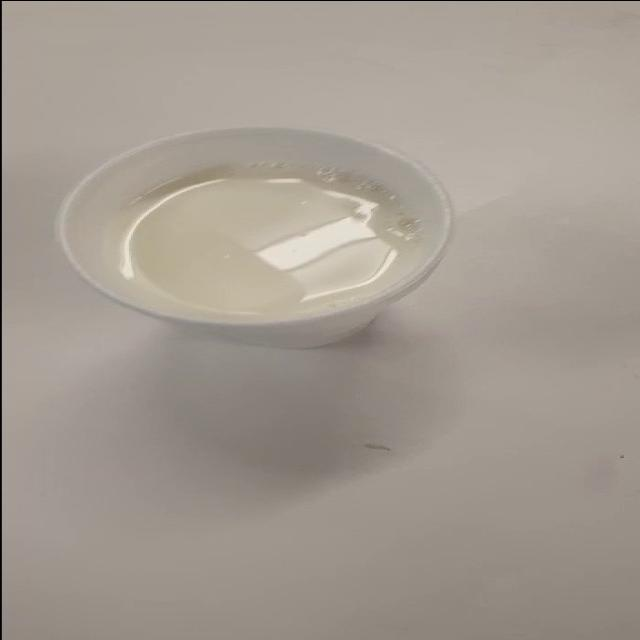Milk: (53, 114, 502, 364)
